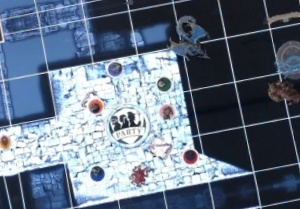blue: (83, 160, 110, 187)
green: (152, 74, 173, 94)
orange: (83, 92, 109, 117)
pink: (154, 101, 178, 122)
red: (176, 145, 200, 167)
violet: (102, 58, 127, 80)
yellow: (2, 129, 14, 149)
